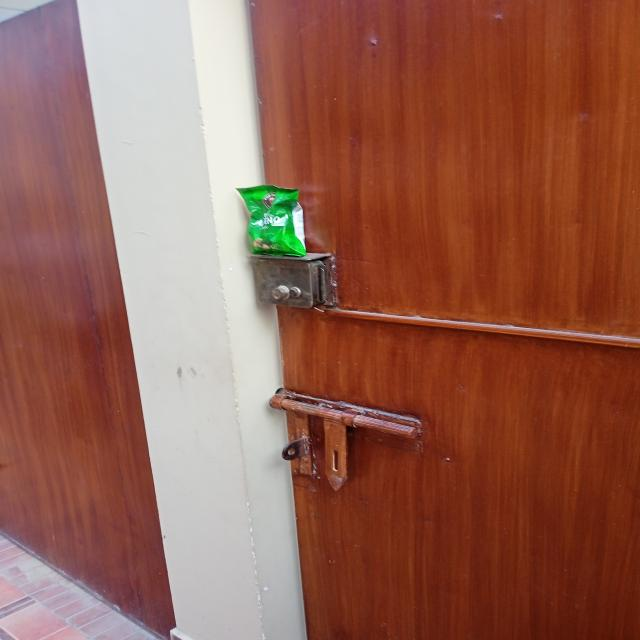Plastic: (248, 190, 304, 256)
